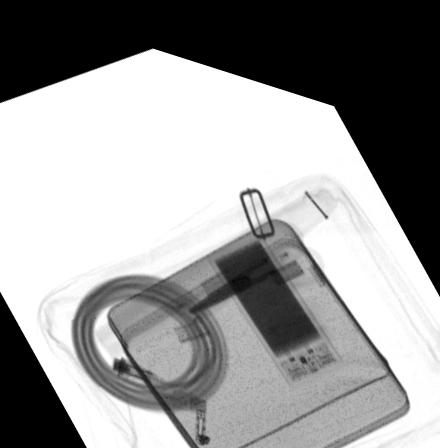Powerbank: (201, 211, 348, 375)
Scissors: (183, 200, 327, 306)
